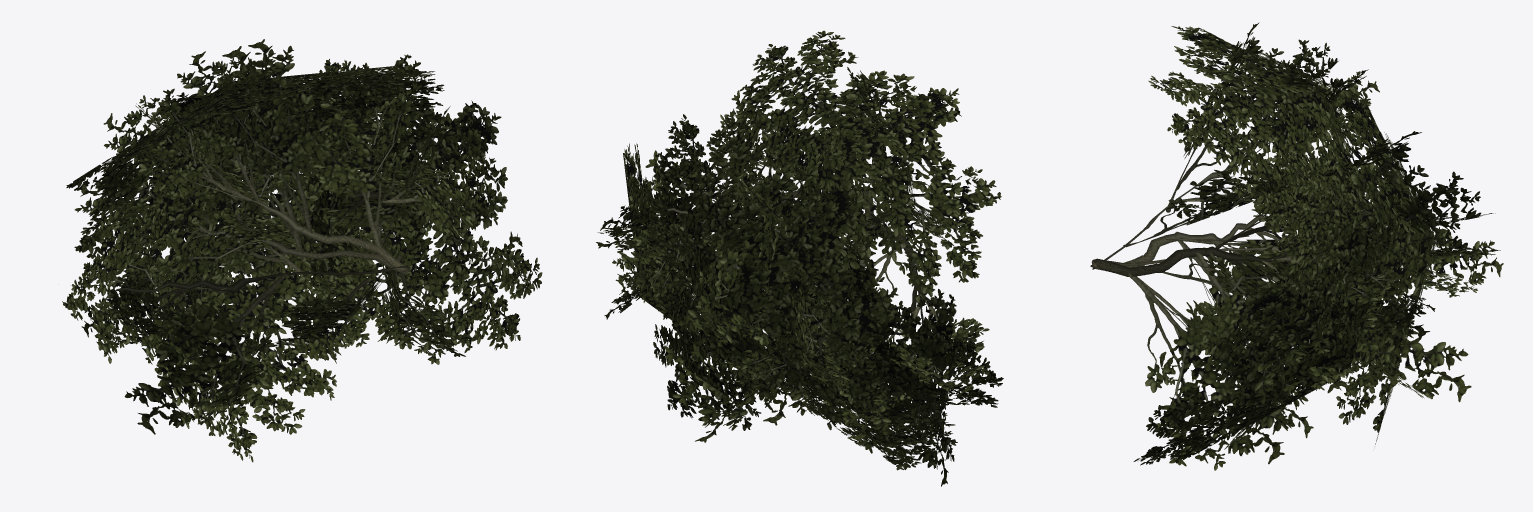
Rendered from MEP_Bush_02_a.fbx.
3 renders of one model, left to right at view 1: azimuth 30°, elevation 25°; view 2: azimuth 150°, elevation 25°; view 3: azimuth 270°, elevation 25°, orthographic. The views are drawn at different scales.
Visible parts, largest first — view 1: EP_Bush_02_a; view 2: EP_Bush_02_a; view 3: EP_Bush_02_a.
Part boxes in pixels (x1,y1,x2,y2): EP_Bush_02_a: [62, 39, 542, 462]; EP_Bush_02_a: [596, 30, 1003, 486]; EP_Bush_02_a: [1090, 22, 1503, 470].
Size of the model in its own units: 6.31 by 5.76 by 4.85.
